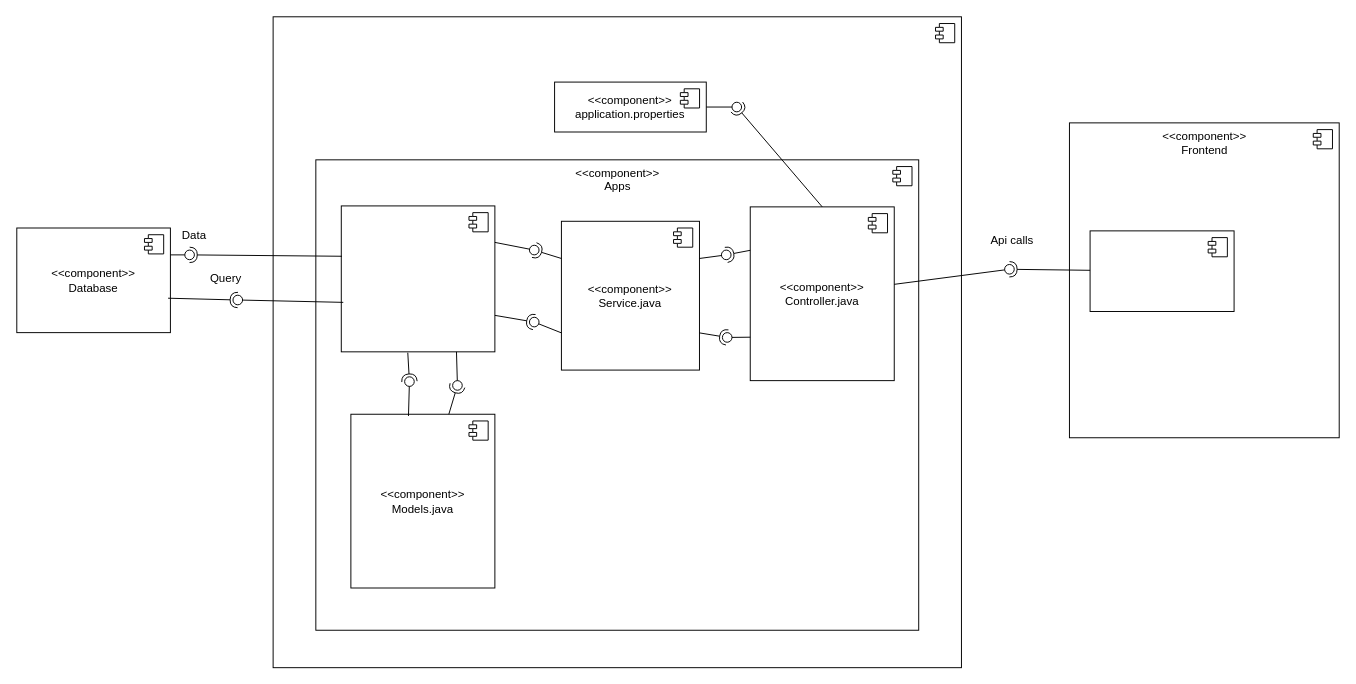
The diagram is 1356 pixels wide and 684 high, and some of its shapes have lost their labels. Here are the shapes that lost their labels. From the top down, the box of each, then its label:
(340, 205, 495, 352): <<component>> Repos.java
(1089, 230, 1234, 312): <<component>> Axios
(272, 16, 961, 668): <<component>> Backend
